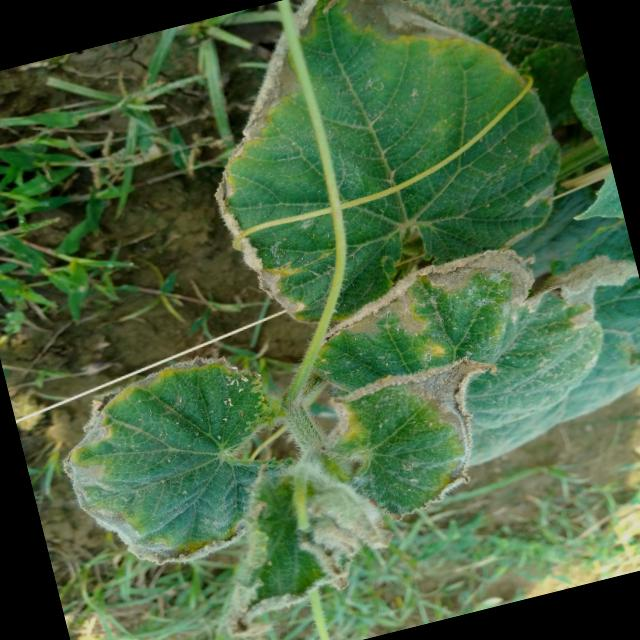cucumber_gummy: (155, 0, 598, 359), (285, 195, 640, 496), (15, 306, 306, 606), (288, 305, 544, 546), (373, 0, 610, 207), (169, 432, 349, 640), (275, 458, 413, 597)
